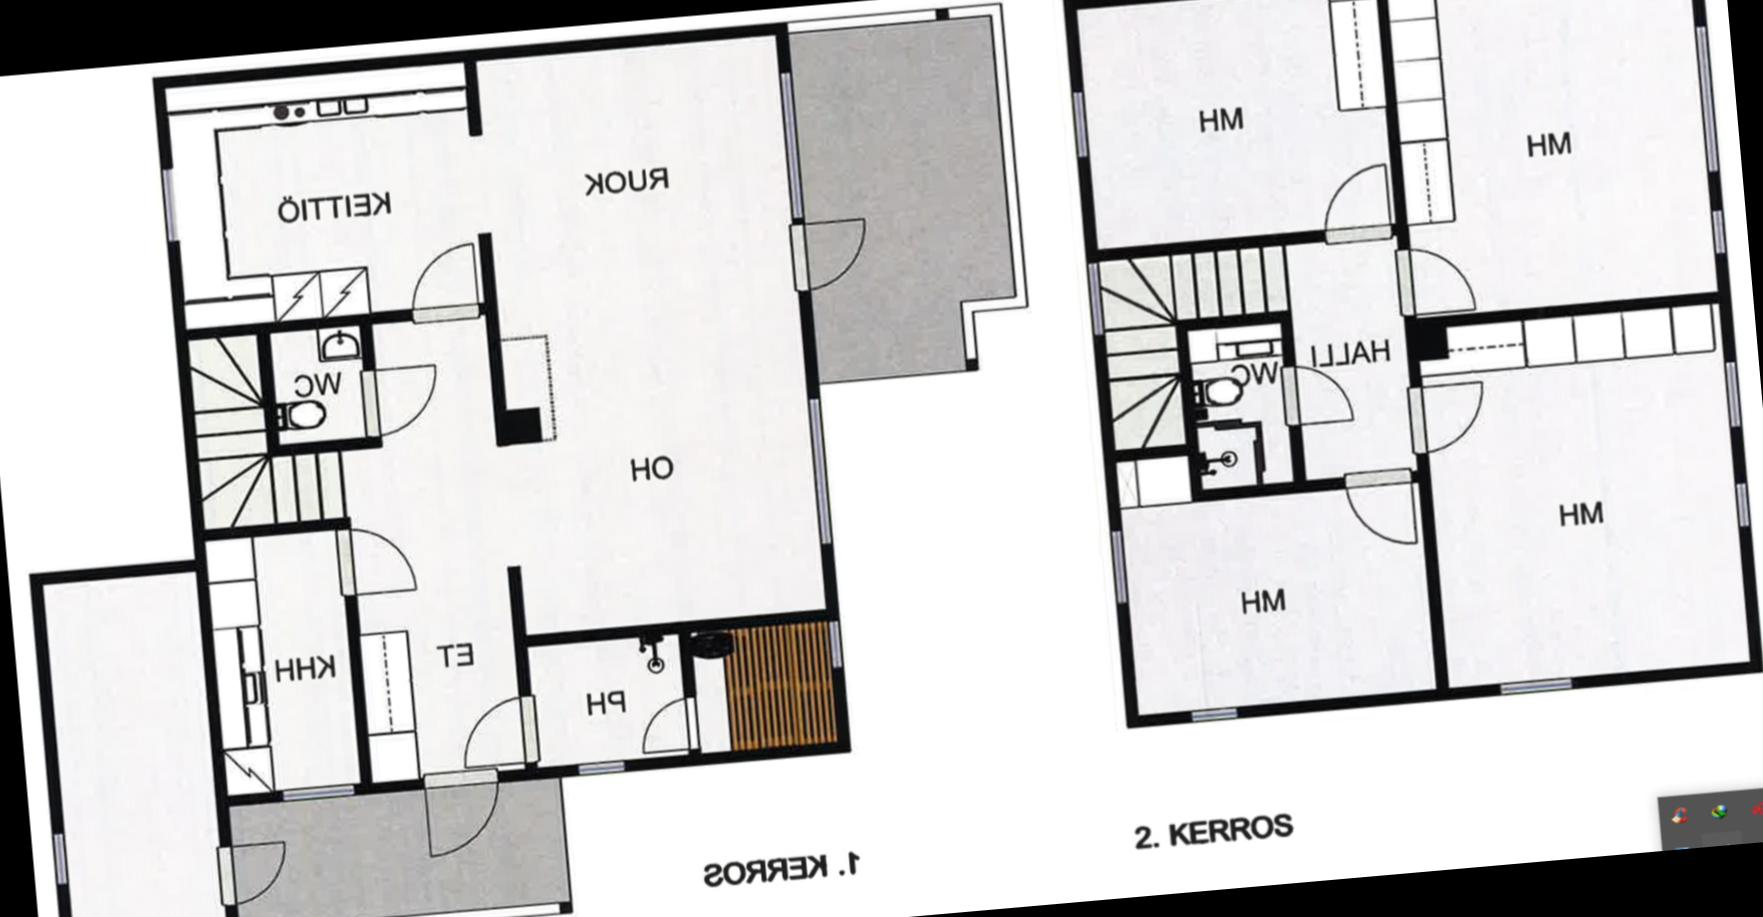door: (414, 757, 512, 862), (1385, 235, 1485, 321), (1312, 157, 1398, 252), (1337, 461, 1424, 554), (451, 689, 546, 773), (329, 516, 420, 602), (400, 235, 483, 329), (351, 358, 444, 441), (1398, 374, 1491, 456), (780, 211, 875, 292), (206, 831, 295, 914), (1271, 353, 1360, 436), (630, 692, 705, 759)
window: (799, 391, 841, 551), (772, 65, 813, 226), (1687, 19, 1725, 187), (275, 773, 361, 813), (1491, 667, 1580, 702), (1102, 525, 1137, 609), (1079, 256, 1111, 345), (1062, 83, 1096, 167), (152, 161, 183, 249), (1718, 353, 1747, 437), (1180, 699, 1246, 733), (42, 827, 76, 892), (821, 611, 849, 674), (568, 752, 631, 780), (1725, 478, 1757, 532), (1704, 203, 1732, 262)
